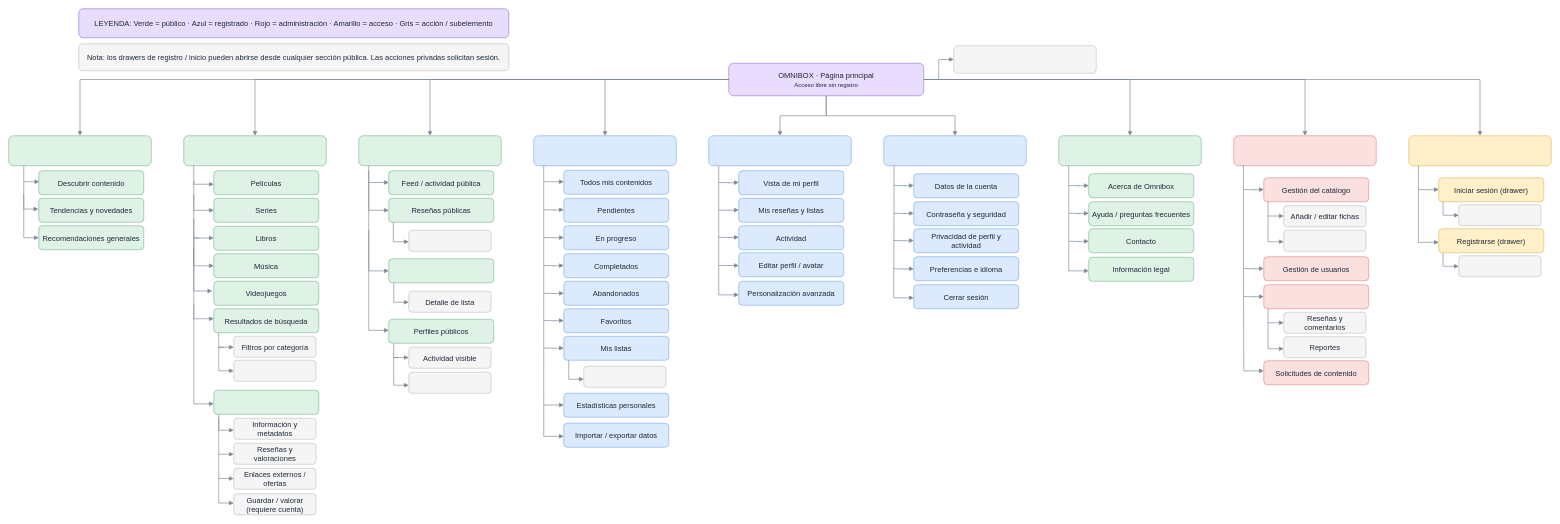
The diagram is 1560 pixels wide and 524 high, and some of its shapes have lost their labels. Each missing label, with the box of its shape:
Acceso: (1408, 135, 1551, 166)
Administración: (1233, 135, 1376, 166)
Ayuda e información: (1058, 135, 1201, 166)
Cambiar idioma (ES / EN) Selector, no página: (953, 45, 1096, 73)
Comunidad: (358, 135, 501, 166)
Configuración de cuenta: (883, 135, 1026, 166)
Corregir duplicados: (1283, 230, 1366, 251)
Crear / editar lista: (583, 366, 666, 387)
Crear cuenta / perfil: (1458, 255, 1541, 277)
Detalle de reseña: (408, 230, 491, 251)
Explorar: (183, 135, 326, 166)
Ficha de contenido: (213, 390, 319, 414)
Inicio: (8, 135, 151, 166)
Listas públicas: (388, 258, 494, 283)
Listas públicas del usuario: (408, 372, 491, 393)
Mi biblioteca: (533, 135, 676, 166)
Mi perfil: (708, 135, 851, 166)
Moderación: (1263, 284, 1369, 309)
Ordenar resultados: (233, 360, 316, 381)
Recuperar contraseña: (1458, 204, 1541, 226)
